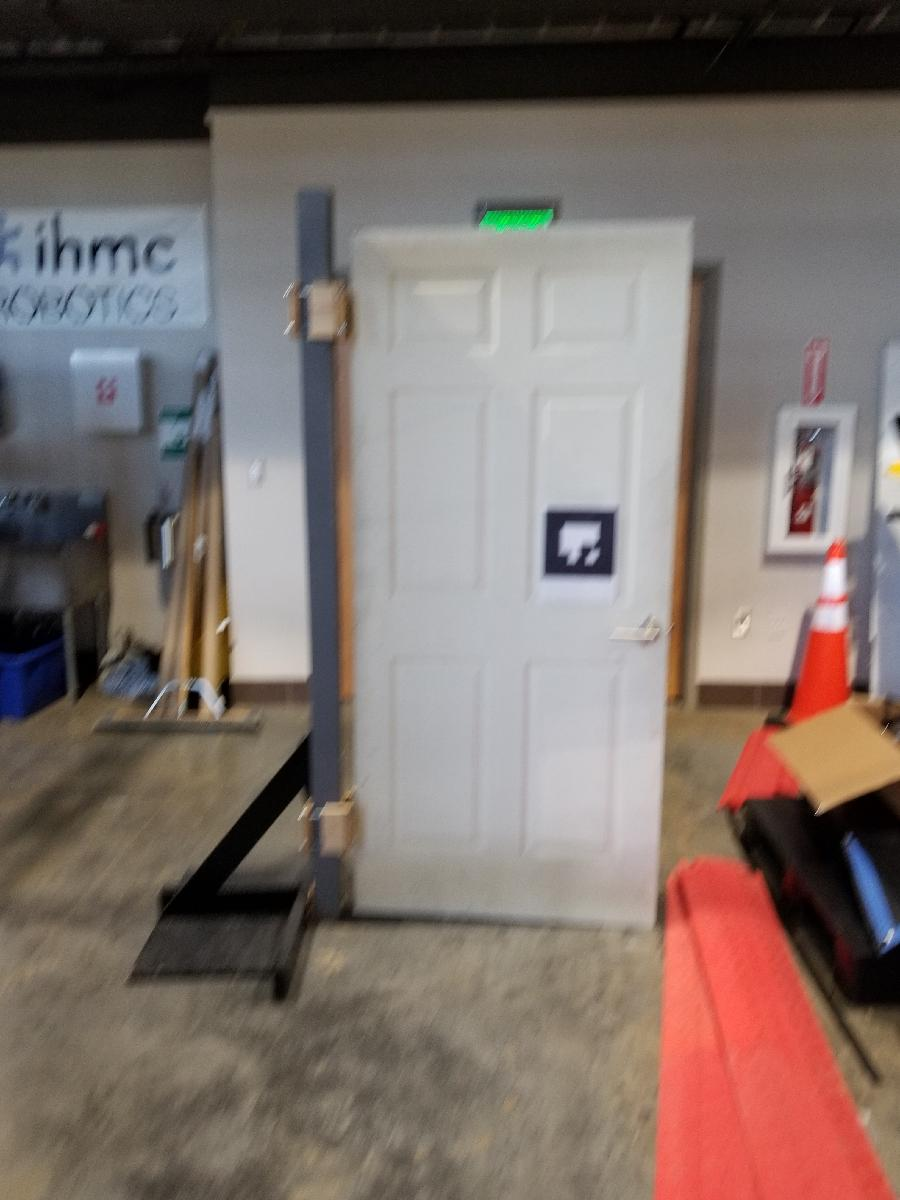door: (337, 213, 697, 939)
doorHandle: (598, 609, 672, 654)
